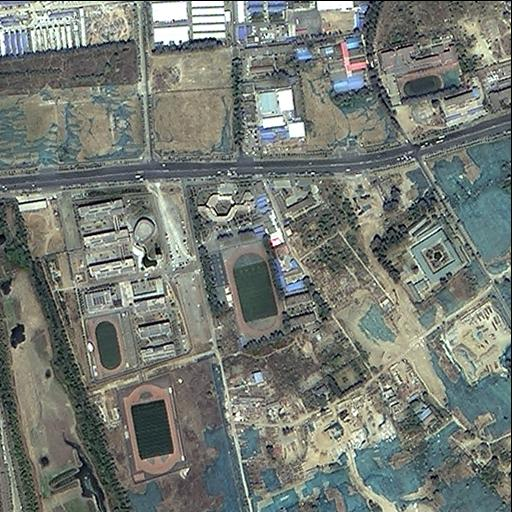school: (65, 195, 193, 383), (184, 179, 288, 347), (378, 36, 468, 105)
